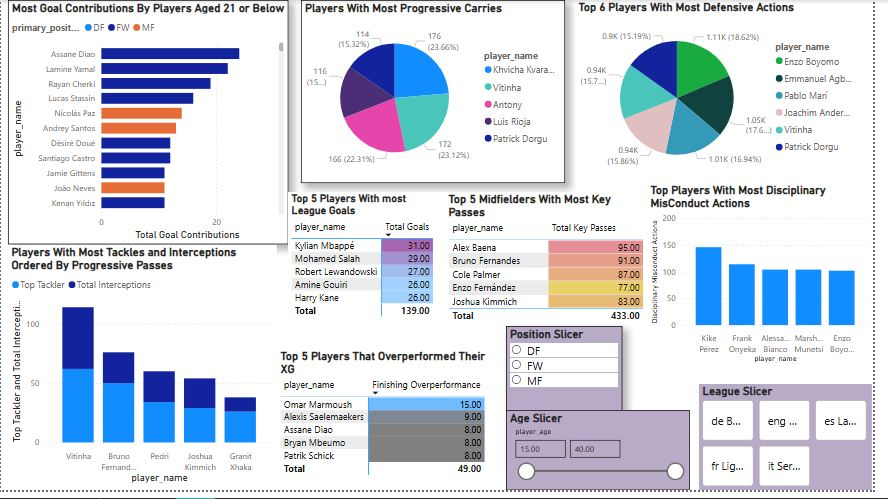

The page's visual inventory and layout, read from the dashboard file:
{"tool":"powerbi","page":{"name":"Page 1","canvas":[1280,720],"ordinal":0},"visuals":[{"type":"barChart","title":"Most Goal Contributions By Players Aged 21 or Below","fields":{"Y":["Stats Fact Table.Total Goal Contributions"],"Category":["Players.player_name"],"Series":["Players.primary_position"]},"box":[10.1,0,411.5,359.5],"z":0},{"type":"pieChart","title":"Players With Most Progressive Carries","fields":{"Category":["Players.player_name"],"Y":["Sum(Stats Fact Table.carries_into_final_third)"]},"box":[440.1,0,388,268.8],"z":1000},{"type":"pivotTable","title":"Top 5 Players That Overperformed Their XG","fields":{"Rows":["Players.player_name"],"Values":["Stats Fact Table.Finishing Overperformance"]},"box":[405.6,512.8,318.9,201.3],"z":2000},{"type":"pivotTable","title":"Top 5 Players With most League Goals","fields":{"Values":["Stats Fact Table.Total Goals"],"Rows":["Players.player_name"]},"box":[421.6,282.2,230.1,196.5],"z":3000},{"type":"pieChart","title":"Top 6 Players With Most Defensive Actions","fields":{"Y":["Stats Fact Table.Total Defensive Actions"],"Category":["Players.player_name"]},"box":[843.3,0,423.3,268.8],"z":4000},{"type":"columnChart","title":"Top Players With Most Disciplinary MisConduct Actions ","fields":{"Y":["Stats Fact Table.Disciplinary Misconduct Actions"],"Category":["Players.player_name"]},"box":[949.1,268.8,330.9,268.8],"z":5000},{"type":"tableEx","title":"Top 5 Midfielders With Most Key Passes","fields":{"Values":["Players.player_name","Stats Fact Table.Total Key Passes"]},"box":[652.4,282.1,296.8,196.9],"z":6000},{"type":"advancedSlicerVisual","title":"League Slicer","fields":{"Values":["League.league_name"]},"box":[1026.4,564.4,253.6,156.2],"z":7000},{"type":"listSlicer","title":"Position Slicer","fields":{"Values":["Players.primary_position"]},"box":[724.4,479,171.9,205.7],"z":8000},{"type":"slicer","title":"Age Slicer","fields":{"Values":["Players.player_age"]},"box":[724.4,602.4,270.4,117.6],"z":9000},{"type":"columnChart","title":"Players With Most Tackles and Interceptions Ordered By Progressive Passes","fields":{"Category":["Players.player_name"],"Y":["Stats Fact Table.Top Tackler","Stats Fact Table.Total Interceptions"]},"box":[10.1,359.5,394.8,354.4],"z":10000}]}

Visuals, with their boxes in screenshot pixels (x1, y1, x2, y2), scaled from the page's 1280x720 canvas onto the 888x499 screenshot:
"Most Goal Contributions By Players Aged 21 or Below" barChart: 7,0,292,249
"Players With Most Progressive Carries" pieChart: 305,0,574,186
"Top 5 Players That Overperformed Their XG" pivotTable: 281,355,503,495
"Top 5 Players With most League Goals" pivotTable: 292,196,452,332
"Top 6 Players With Most Defensive Actions" pieChart: 585,0,879,186
"Top Players With Most Disciplinary MisConduct Actions " columnChart: 658,186,887,373
"Top 5 Midfielders With Most Key Passes" tableEx: 453,196,659,332
"League Slicer" advancedSlicerVisual: 712,391,887,498
"Position Slicer" listSlicer: 503,332,622,475
"Age Slicer" slicer: 503,417,690,498
"Players With Most Tackles and Interceptions Ordered By Progressive Passes" columnChart: 7,249,281,495
